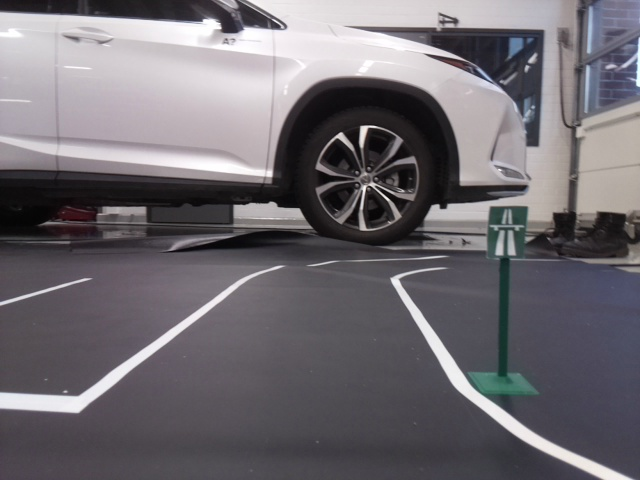HighwayEntrance: (489, 206, 524, 255)
